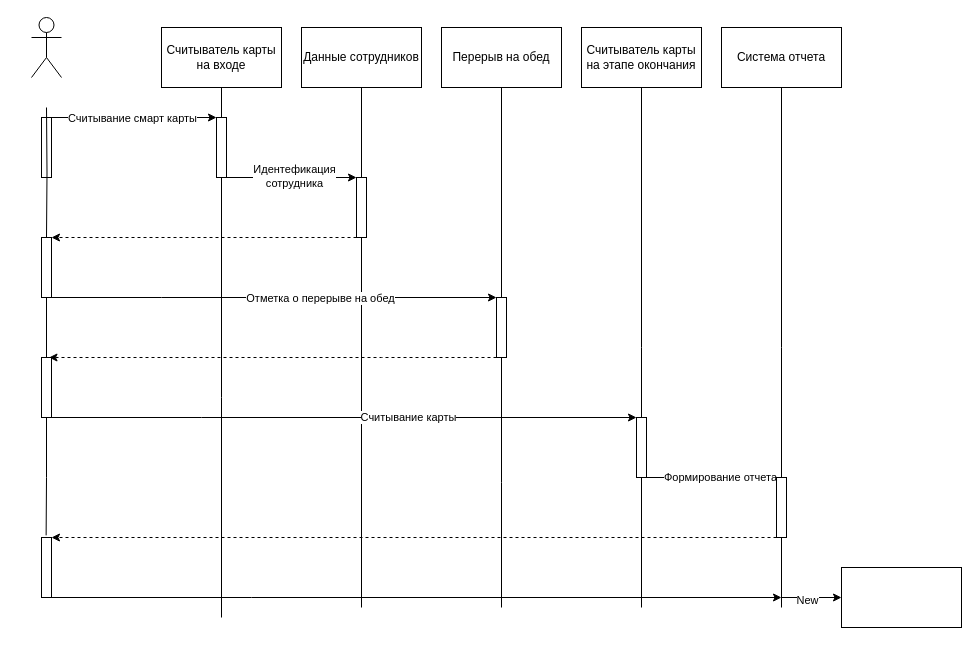
Image size: 979x645. Some labels were removed from this diagram. Each missing label, with the centre of its shape:
"Сотрудник" belongs at point 46,47.
"Сформированный отчет" belongs at point 901,597.
